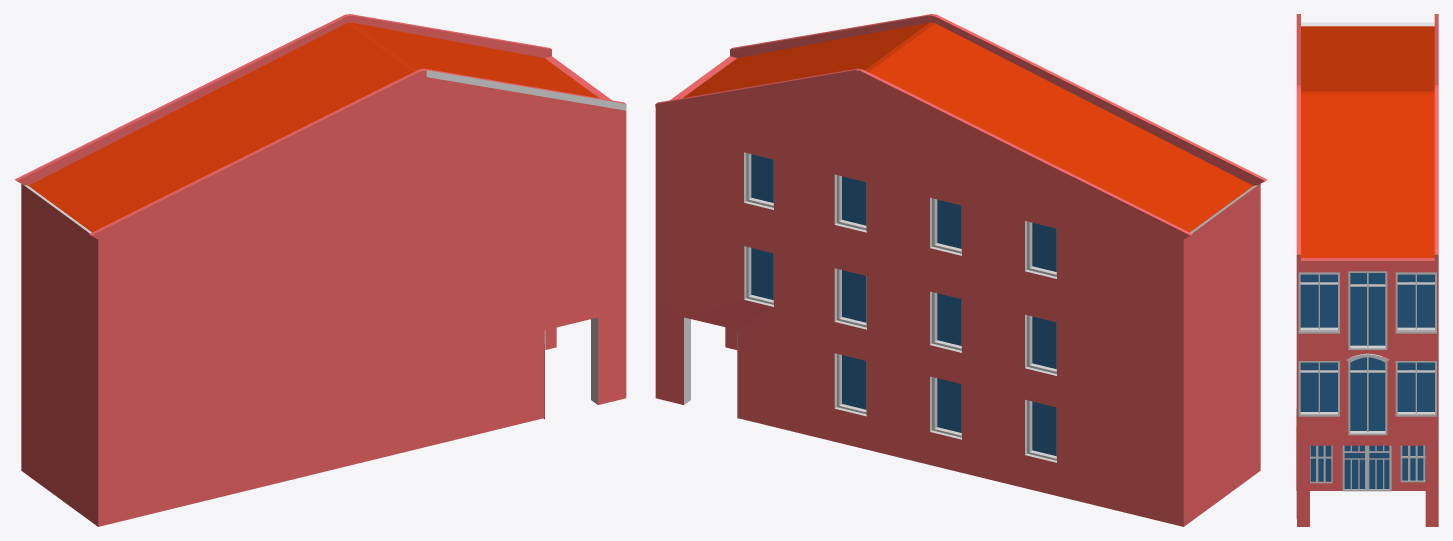
Rendered from cornerhouse1.fbx.
The picture shows the model from 3 angles, left to right: view 1: azimuth 30°, elevation 25°; view 2: azimuth 150°, elevation 25°; view 3: azimuth 270°, elevation 25°; orthographic projection. The views are drawn at different scales.
Parts seen in each view (by area): view 1: corner house1; view 2: corner house1; view 3: corner house1.
Part boxes in pixels (left/top/right/bottom): corner house1: left=14, top=14, right=626, bottom=526; corner house1: left=655, top=14, right=1267, bottom=526; corner house1: left=1296, top=14, right=1438, bottom=526.
Size of the model in its own units: 1208 by 814 by 301.
